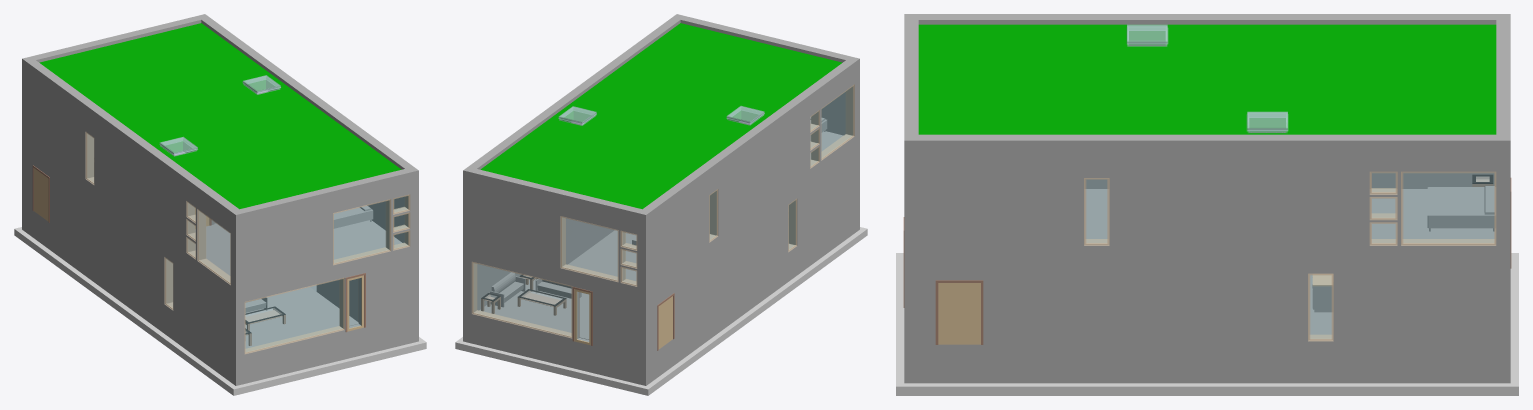
The picture shows the model from 3 angles, left to right: view 1: azimuth 30°, elevation 25°; view 2: azimuth 150°, elevation 25°; view 3: azimuth 270°, elevation 25°; orthographic projection. The views are drawn at different scales.
Visible parts, largest first — view 1: 09g7Eo3WDEihdnsYS1YDoI, 2O2Fr$t4X7Zf8NOew3FNhv, 2O2Fr$t4X7Zf8NOew3FLPP, 2O2Fr$t4X7Zf8NOew3FLOH, 2O2Fr$t4X7Zf8NOew3FNr2, 2O2Fr$t4X7Zf8NOew3FKE5, 2O2Fr$t4X7Zf8NOew3FKEr, 0jf0rYHfX3RAB3bSIRjmr1, 2OBrcmyk58NupXoVOHUtxr, 0jf0rYHfX3RAB3bSIRjmoa, 0jf0rYHfX3RAB3bSIRjmpw, 0kF45Qs8L9PAM9kmb1lT5t (+18 smaller); view 2: 09g7Eo3WDEihdnsYS1YDoI, 2O2Fr$t4X7Zf8NOew3FNhv, 2O2Fr$t4X7Zf8NOew3FLPP, 2O2Fr$t4X7Zf8NOew3FLQD, 2O2Fr$t4X7Zf8NOew3FNtn, 2O2Fr$t4X7Zf8NOew3FKE5, 2O2Fr$t4X7Zf8NOew3FK80, 0jf0rYHfX3RAB3bSIRjmr1, 0jf0rYHfX3RAB3bSIRjmmy, 0kF45Qs8L9PAM9kmb1lT5t, 0jf0rYHfX3RAB3bSIRjmpw, 2OBrcmyk58NupXoVOHUtgP (+18 smaller); view 3: 09g7Eo3WDEihdnsYS1YDoI, 2O2Fr$t4X7Zf8NOew3FNqI, 2O2Fr$t4X7Zf8NOew3FLR9, 2O2Fr$t4X7Zf8NOew3FK9N, 0jf0rYHfX3RAB3bSIRjmpw, 0kF45Qs8L9PAM9kmb1lT5d, 0jf0rYHfX3RAB3bSIRjmr1, 1hOSvn6df7F8_7GcBWlRGQ, 2OBrcmyk58NupXoVOHUtDX, 2OBrcmyk58NupXoVOHUtI8, 0jf0rYHfX3RAB3bSIRjmmy, 2O2Fr$t4X7Zf8NOew3FKau (+13 smaller).
Part boxes in pixels (x1=…): 09g7Eo3WDEihdnsYS1YDoI: x1=39, y1=23, x2=401, y2=209; 2O2Fr$t4X7Zf8NOew3FNhv: x1=27, y1=139, x2=230, y2=354; 2O2Fr$t4X7Zf8NOew3FLPP: x1=22, y1=72, x2=235, y2=291; 2O2Fr$t4X7Zf8NOew3FLOH: x1=236, y1=183, x2=418, y2=291; 2O2Fr$t4X7Zf8NOew3FNr2: x1=231, y1=249, x2=410, y2=358; 2O2Fr$t4X7Zf8NOew3FKE5: x1=27, y1=206, x2=230, y2=382; 2O2Fr$t4X7Zf8NOew3FKEr: x1=231, y1=316, x2=410, y2=385; 0jf0rYHfX3RAB3bSIRjmr1: x1=27, y1=60, x2=238, y2=224; 2OBrcmyk58NupXoVOHUtxr: x1=245, y1=285, x2=358, y2=348; 0jf0rYHfX3RAB3bSIRjmoa: x1=231, y1=169, x2=410, y2=228; 0jf0rYHfX3RAB3bSIRjmpw: x1=201, y1=17, x2=418, y2=185; 0kF45Qs8L9PAM9kmb1lT5t: x1=14, y1=227, x2=227, y2=387; 09g7Eo3WDEihdnsYS1YDoI: x1=480, y1=23, x2=842, y2=209; 2O2Fr$t4X7Zf8NOew3FNhv: x1=651, y1=139, x2=854, y2=354; 2O2Fr$t4X7Zf8NOew3FLPP: x1=646, y1=72, x2=859, y2=291; 2O2Fr$t4X7Zf8NOew3FLQD: x1=463, y1=183, x2=645, y2=291; 2O2Fr$t4X7Zf8NOew3FNtn: x1=463, y1=247, x2=650, y2=358; 2O2Fr$t4X7Zf8NOew3FKE5: x1=651, y1=206, x2=854, y2=382; 2O2Fr$t4X7Zf8NOew3FK80: x1=463, y1=314, x2=650, y2=385; 0jf0rYHfX3RAB3bSIRjmr1: x1=643, y1=60, x2=854, y2=224; 0jf0rYHfX3RAB3bSIRjmmy: x1=463, y1=167, x2=650, y2=228; 0kF45Qs8L9PAM9kmb1lT5t: x1=629, y1=235, x2=856, y2=395; 0jf0rYHfX3RAB3bSIRjmpw: x1=468, y1=14, x2=684, y2=169; 2OBrcmyk58NupXoVOHUtgP: x1=479, y1=279, x2=589, y2=339; 09g7Eo3WDEihdnsYS1YDoI: x1=918, y1=24, x2=1496, y2=134; 2O2Fr$t4X7Zf8NOew3FNqI: x1=904, y1=249, x2=1496, y2=344; 2O2Fr$t4X7Zf8NOew3FLR9: x1=904, y1=159, x2=1510, y2=248; 2O2Fr$t4X7Zf8NOew3FK9N: x1=904, y1=344, x2=1496, y2=383; 0jf0rYHfX3RAB3bSIRjmpw: x1=904, y1=134, x2=1496, y2=159; 0kF45Qs8L9PAM9kmb1lT5d: x1=896, y1=373, x2=1518, y2=395; 0jf0rYHfX3RAB3bSIRjmr1: x1=918, y1=14, x2=1496, y2=24; 1hOSvn6df7F8_7GcBWlRGQ: x1=935, y1=280, x2=983, y2=344; 2OBrcmyk58NupXoVOHUtDX: x1=1371, y1=189, x2=1495, y2=239; 2OBrcmyk58NupXoVOHUtI8: x1=1427, y1=186, x2=1495, y2=231; 0jf0rYHfX3RAB3bSIRjmmy: x1=1496, y1=14, x2=1510, y2=159; 2O2Fr$t4X7Zf8NOew3FKau: x1=1085, y1=172, x2=1495, y2=188.
Bounding box in the file's own units: 9.28 × 8.18 × 18.28.
